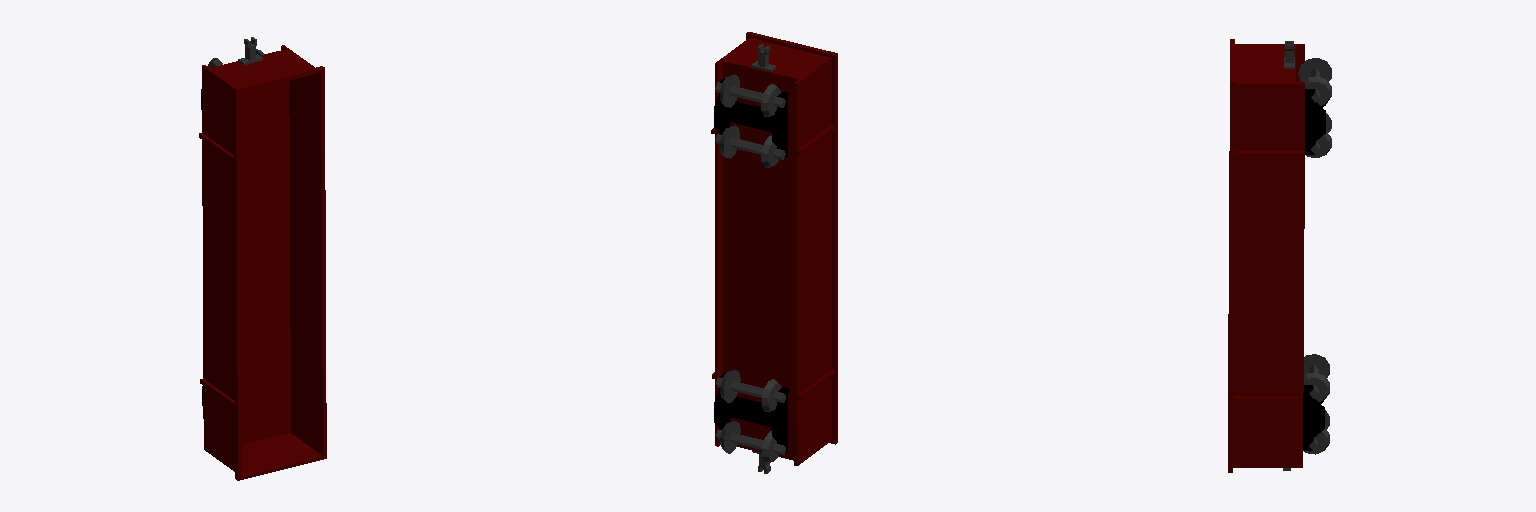
Rendered from vagon14_6.obj.
3 views of the same model, side by side, from view 1: azimuth 30°, elevation 25°; view 2: azimuth 150°, elevation 25°; view 3: azimuth 270°, elevation 25° (orthographic).
Visible parts, largest first — view 1: Shape_IndexedFaceSet.081, Shape_IndexedFaceSet.095; view 2: Shape_IndexedFaceSet.095, Shape_IndexedFaceSet.089, Shape_IndexedFaceSet.077, Shape_IndexedFaceSet.082, Shape_IndexedFaceSet.088; view 3: Shape_IndexedFaceSet.095, Shape_IndexedFaceSet.090, Shape_IndexedFaceSet.073.
Part boxes in pixels (bbox=[...]): Shape_IndexedFaceSet.081: bbox=[240, 73, 322, 475]; Shape_IndexedFaceSet.095: bbox=[199, 45, 326, 480]; Shape_IndexedFaceSet.095: bbox=[711, 32, 837, 465]; Shape_IndexedFaceSet.089: bbox=[725, 397, 786, 429]; Shape_IndexedFaceSet.077: bbox=[725, 102, 786, 134]; Shape_IndexedFaceSet.082: bbox=[772, 92, 787, 159]; Shape_IndexedFaceSet.088: bbox=[772, 387, 788, 454]; Shape_IndexedFaceSet.095: bbox=[1228, 39, 1304, 472]; Shape_IndexedFaceSet.090: bbox=[1303, 385, 1324, 450]; Shape_IndexedFaceSet.073: bbox=[1305, 89, 1325, 154].
Bounding box in the file's own units: 4.9 × 22.29 × 4.95.